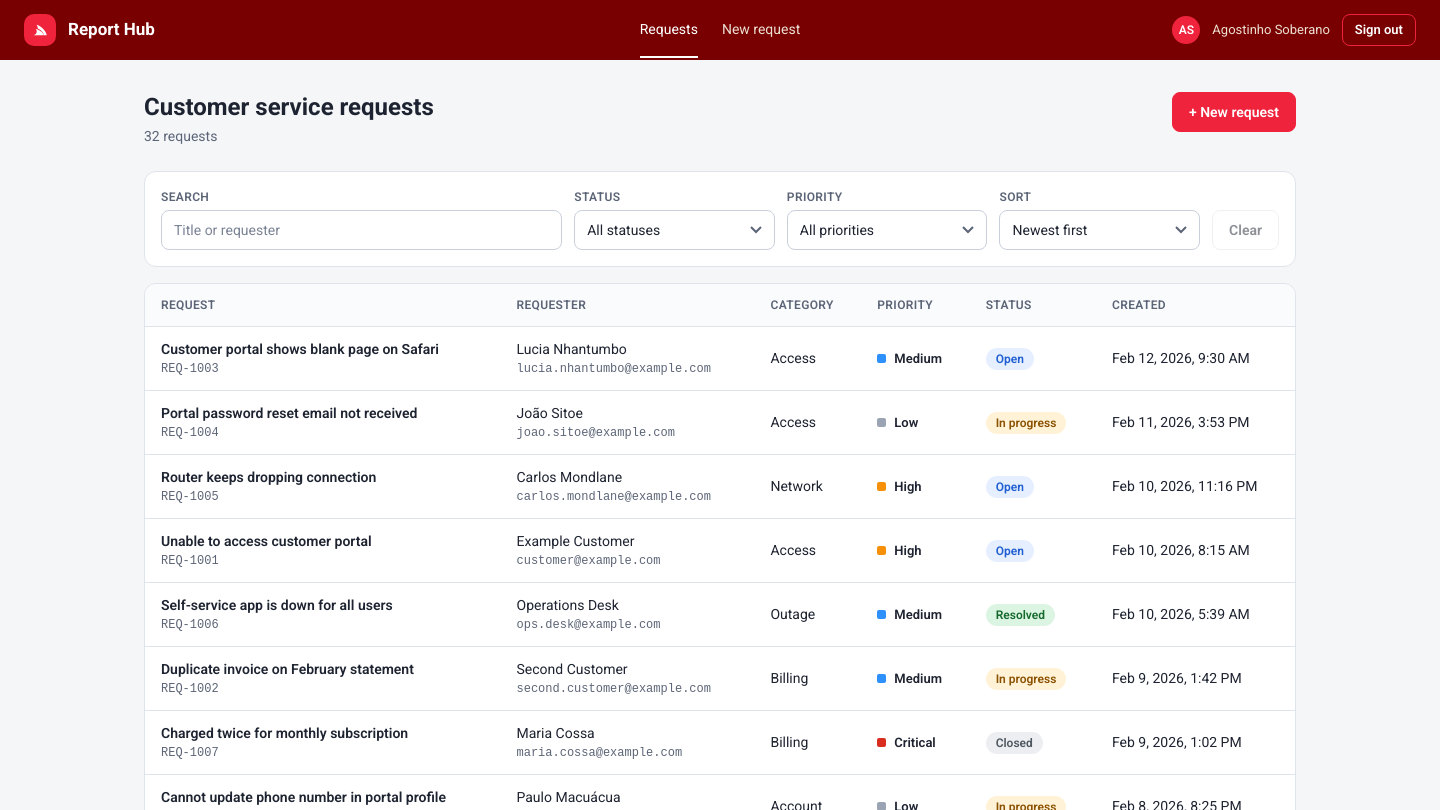
Test: request list › filters by status
Select "Closed" in the dropdown labelled "Status" at (674, 230), box [574, 210, 775, 250]
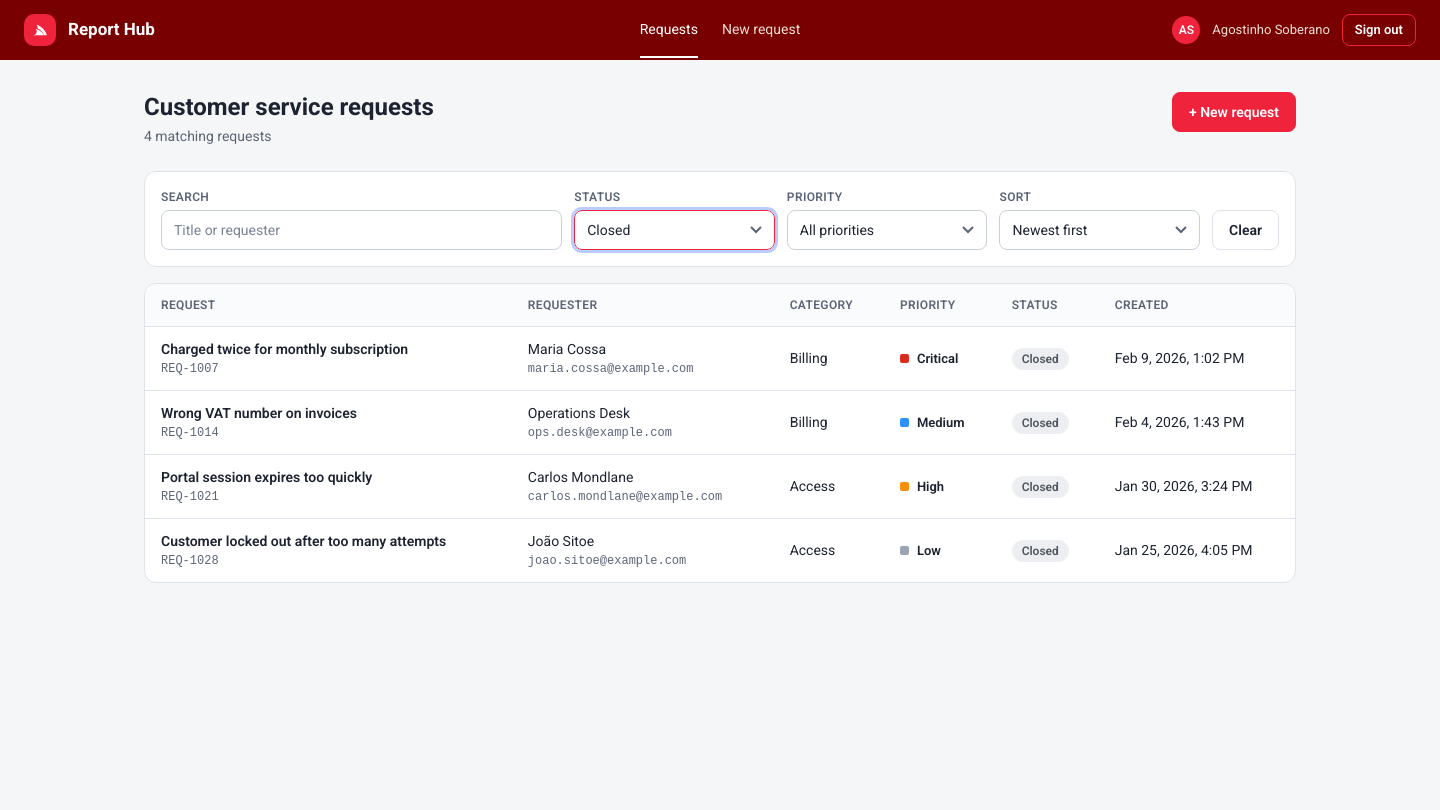
Expected: the row that starts with "Wrong VAT number on invoices" shows "Closed", [1022, 416, 1059, 430]
Expected: the row that starts with "Portal session expires too quickly" shows "Closed", [1022, 480, 1059, 494]
Expected: the 5th row shows "Closed", [1022, 544, 1059, 558]
